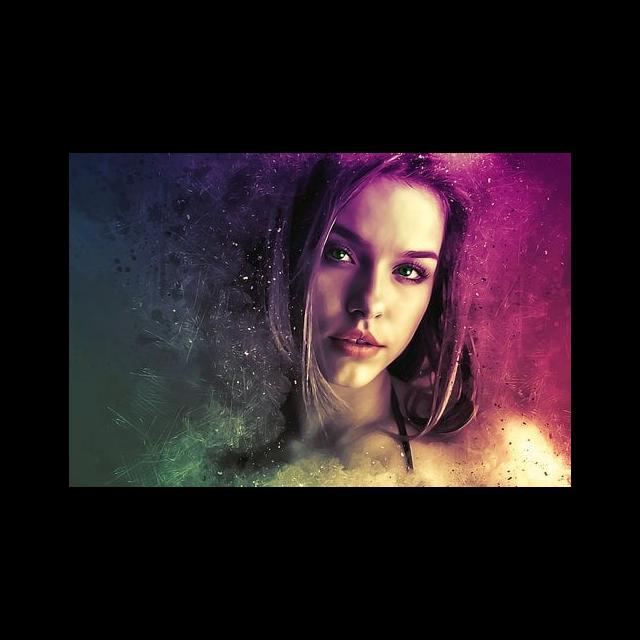female: (278, 153, 515, 381)
